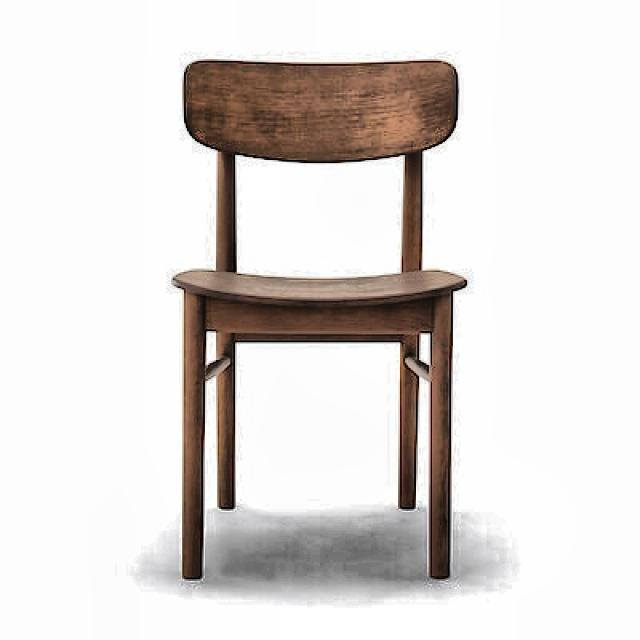cadeira: (172, 59, 460, 588)
